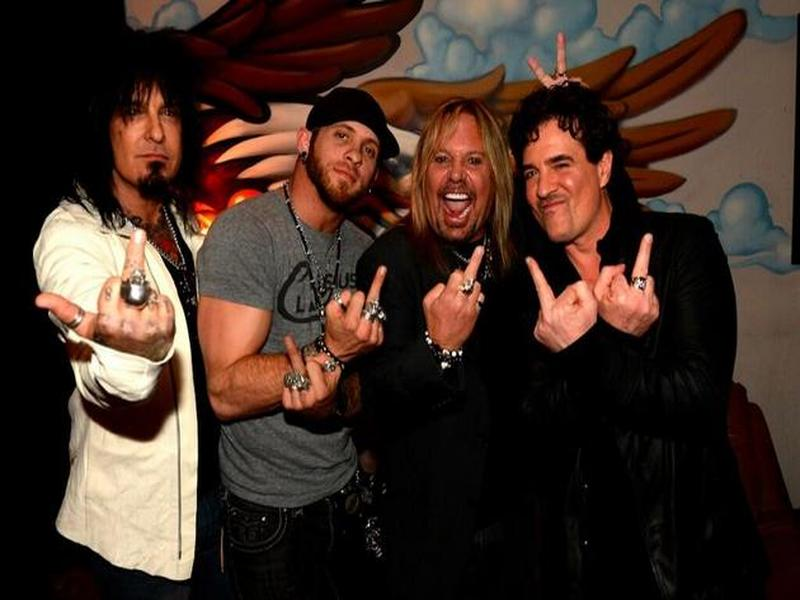flipping_the_bird: (37, 227, 178, 369), (514, 255, 597, 358), (597, 228, 664, 350), (416, 250, 488, 347), (321, 263, 395, 355), (272, 334, 338, 426)
